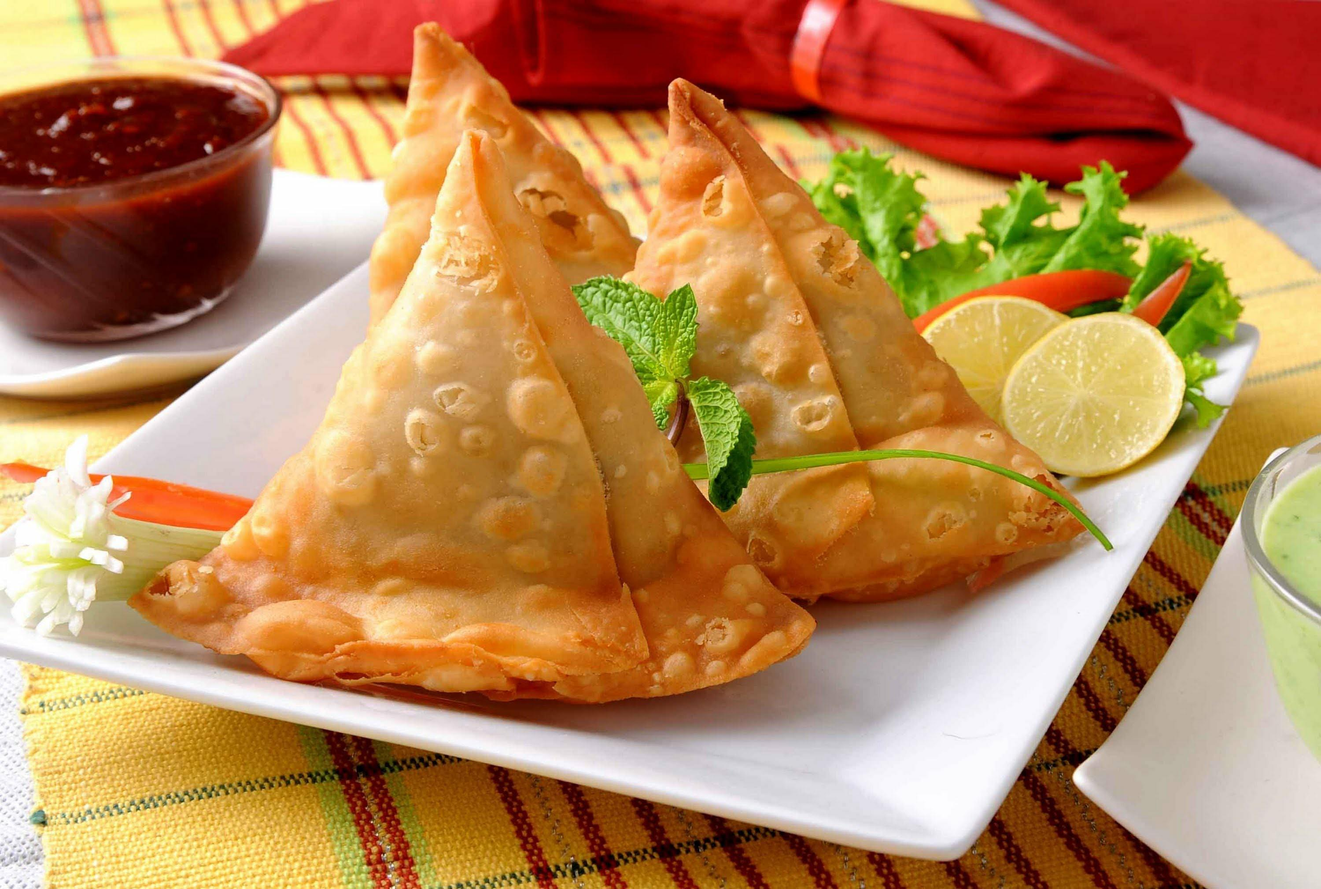Samosa: (133, 144, 814, 701), (631, 75, 1086, 618), (377, 23, 639, 304)
